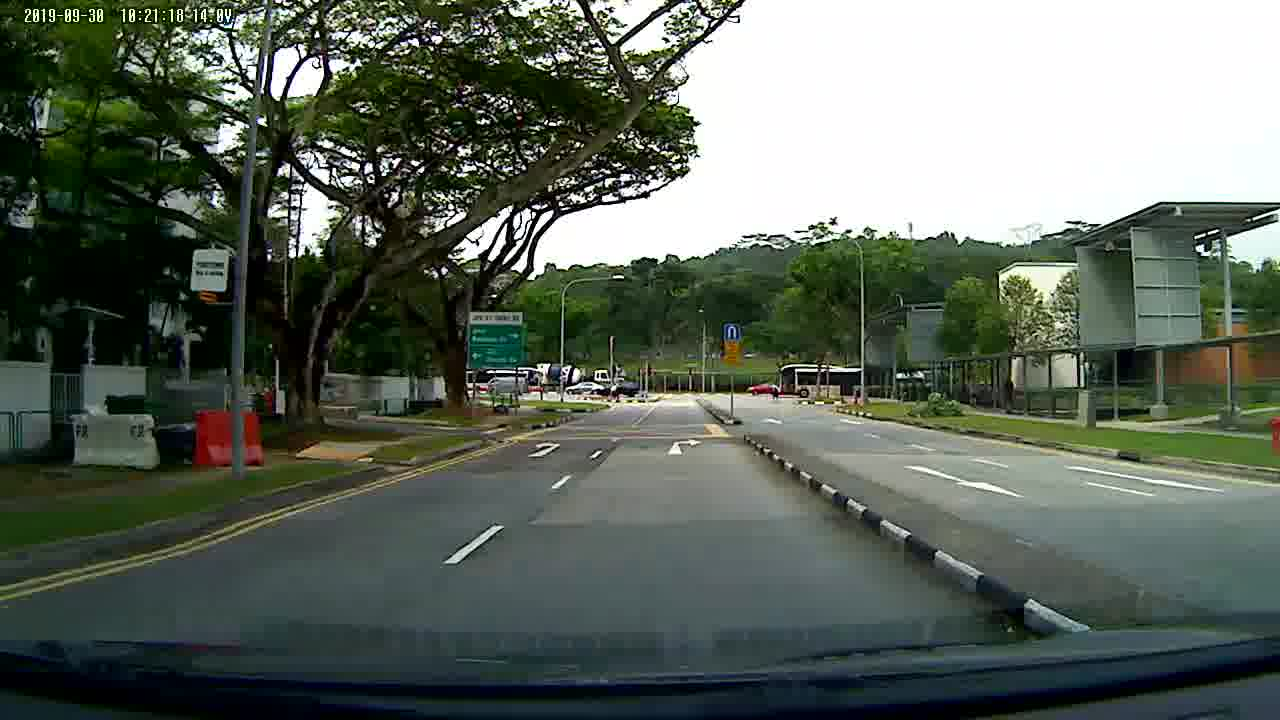bus: (774, 362, 859, 399)
car: (565, 382, 604, 392)
